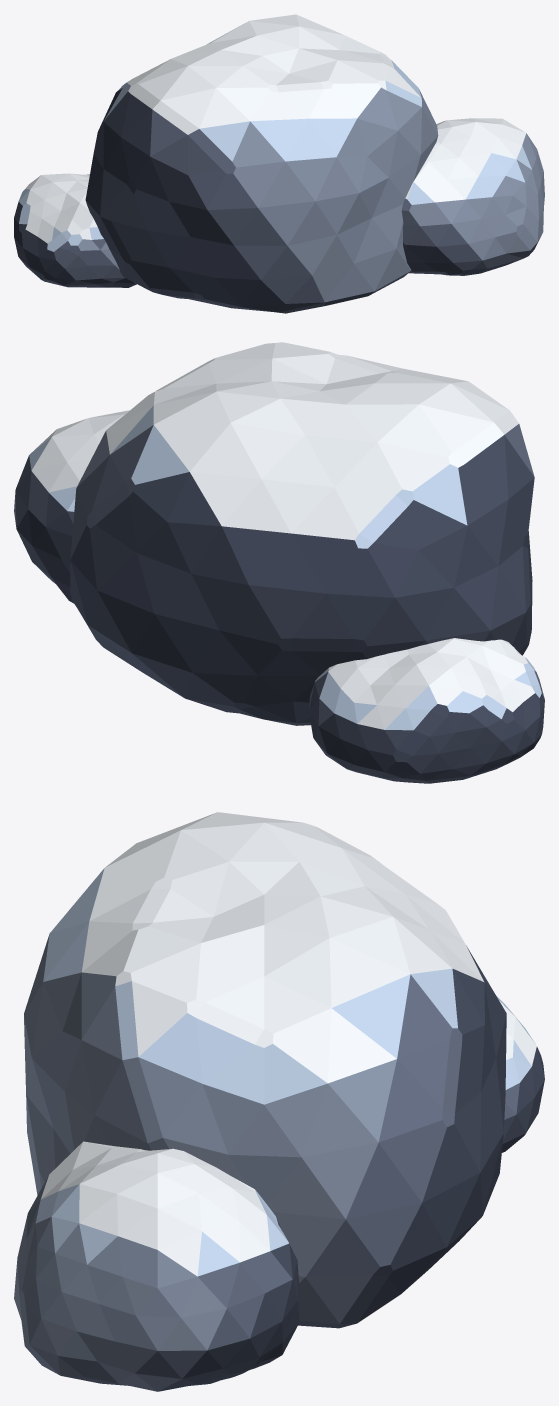
File: SnowRock.fbx
3 views of the same model, one above another, from view 1: azimuth 30°, elevation 25°; view 2: azimuth 150°, elevation 25°; view 3: azimuth 270°, elevation 25° (orthographic). The views are drawn at different scales.
Parts seen in each view (by area): view 1: SnowRock; view 2: SnowRock; view 3: SnowRock.
Boxes of the visible parts, x1,y1,x2,y2 form: SnowRock: [14, 14, 544, 313]; SnowRock: [14, 342, 544, 783]; SnowRock: [14, 812, 544, 1391].
Bounding box in the file's own units: 2.71 × 1.25 × 1.75.
1 material, 1 textured.
